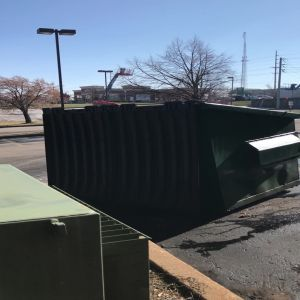Dumpster: (41, 100, 300, 216)
